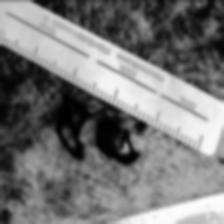Unclassified: (99, 122, 151, 162)
